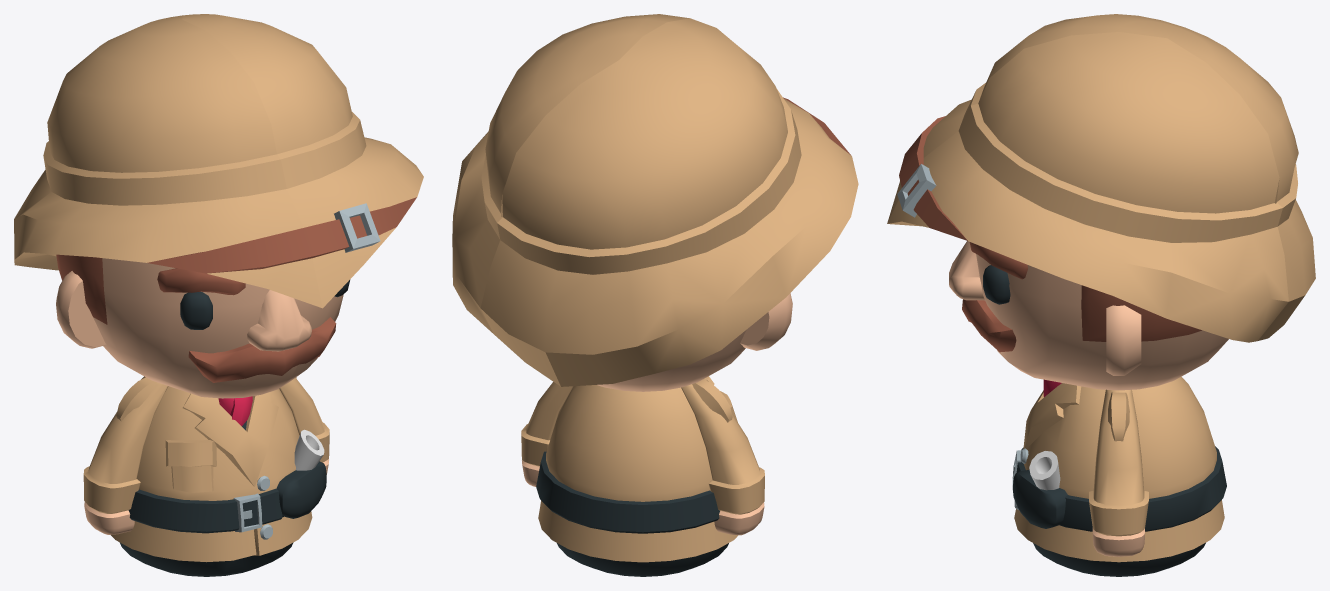
The model's file is explorer.fbx.
The picture shows the model from 3 angles, left to right: view 1: azimuth 30°, elevation 25°; view 2: azimuth 150°, elevation 25°; view 3: azimuth 270°, elevation 25°; orthographic projection.
Visible parts, largest first — view 1: explorer_hat, explorer_body, explorer_head, explorer_armRight, explorer_armLeft; view 2: explorer_hat, explorer_body, explorer_armRight, explorer_head, explorer_armLeft; view 3: explorer_hat, explorer_body, explorer_head, explorer_armLeft.
Part boxes in pixels (box(x1,y1,x2,y2)): explorer_hat: box(14, 14, 423, 308); explorer_body: box(111, 376, 326, 576); explorer_head: box(56, 254, 350, 398); explorer_armRight: box(83, 377, 168, 534); explorer_armLeft: box(279, 377, 329, 474); explorer_hat: box(452, 14, 858, 386); explorer_body: box(536, 376, 737, 576); explorer_armRight: box(681, 379, 764, 535); explorer_head: box(597, 293, 792, 391); explorer_armLeft: box(521, 382, 573, 486); explorer_hat: box(887, 14, 1315, 342); explorer_body: box(1012, 376, 1226, 576); explorer_head: box(949, 241, 1228, 390); explorer_armLeft: box(1089, 389, 1148, 556).
Size of the model in its own units: 1.48 by 1.96 by 1.48.
